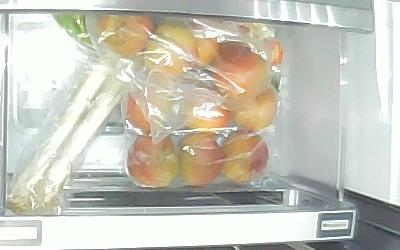prune_vinyl: (142, 22, 202, 77), (214, 41, 267, 99), (126, 133, 180, 188), (177, 132, 226, 187), (221, 130, 270, 185), (228, 81, 279, 129), (98, 14, 153, 56), (124, 89, 169, 133), (184, 97, 231, 130), (193, 37, 221, 64)
